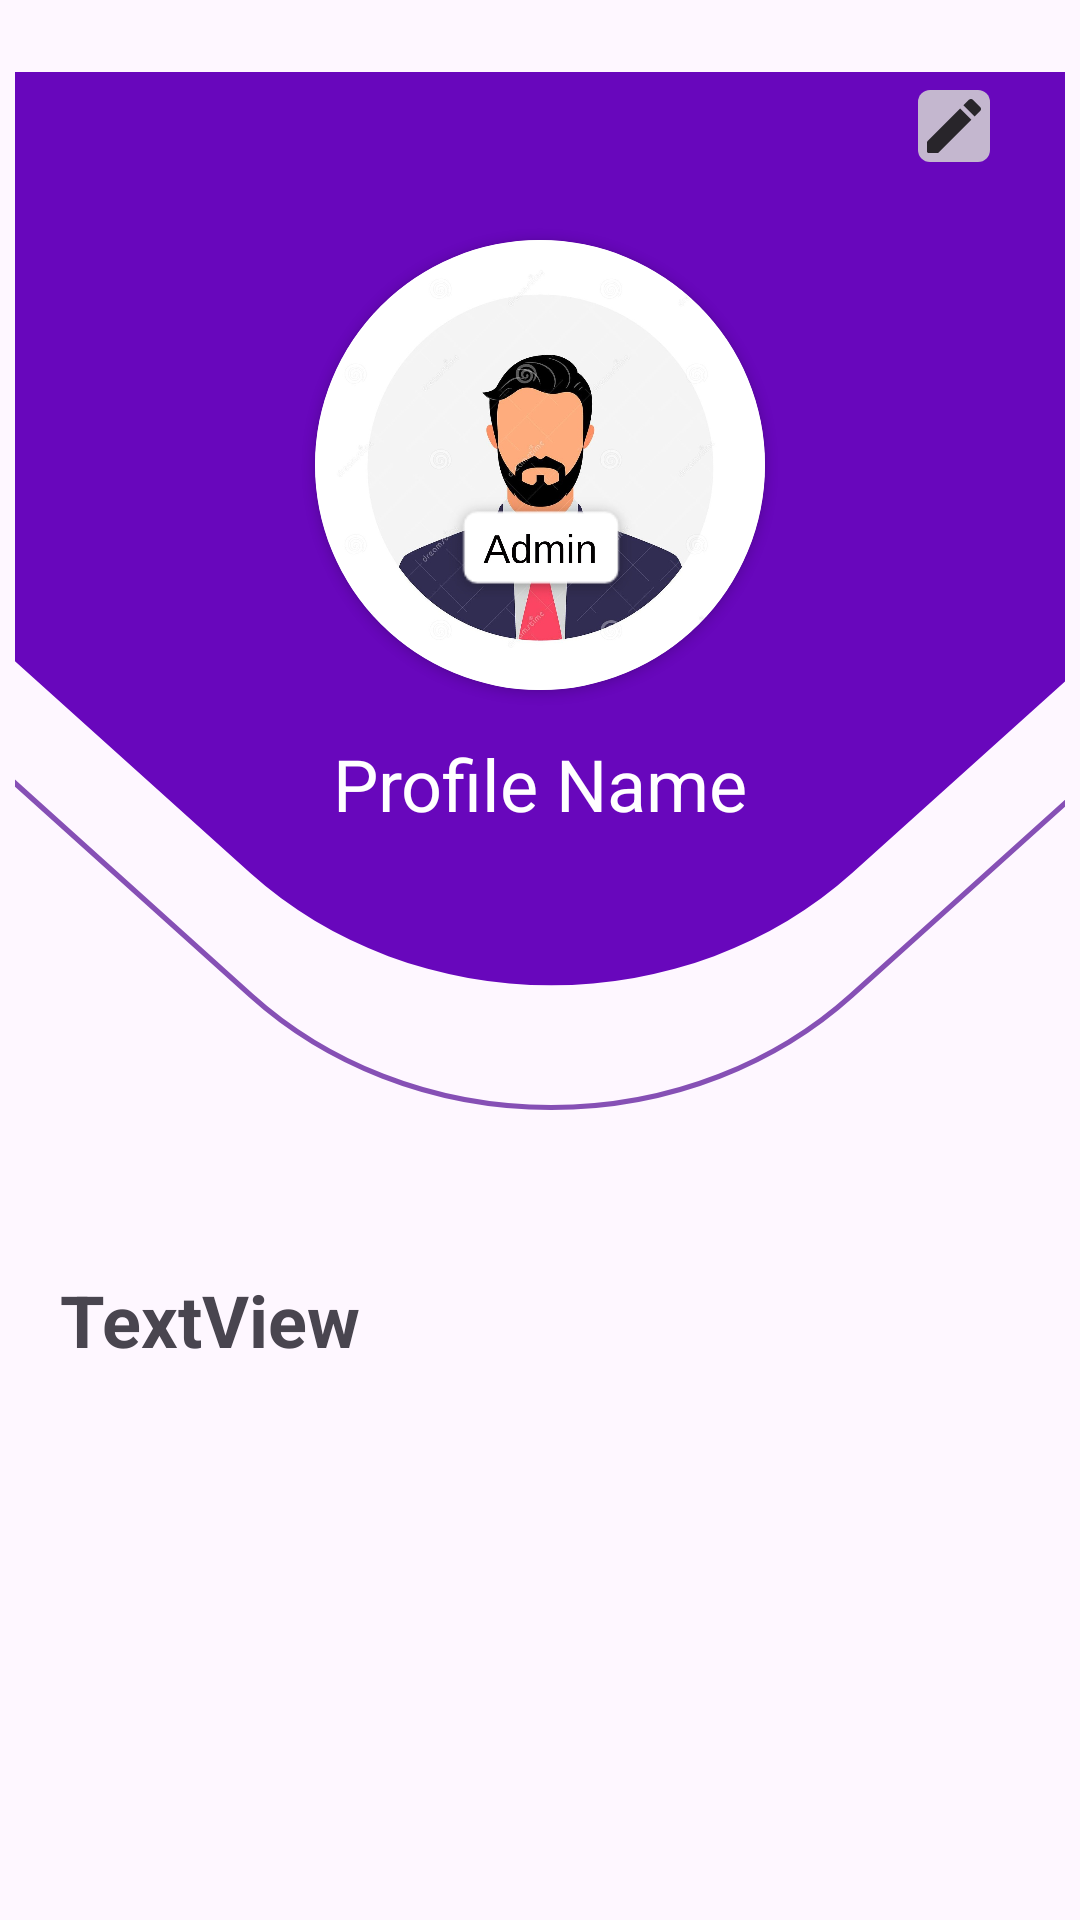

Locate icon controls on the screen. Image size 1080px x 1920px, boxes as (x1, y1, x2, y2).
mode edit: (918, 90, 990, 162)
